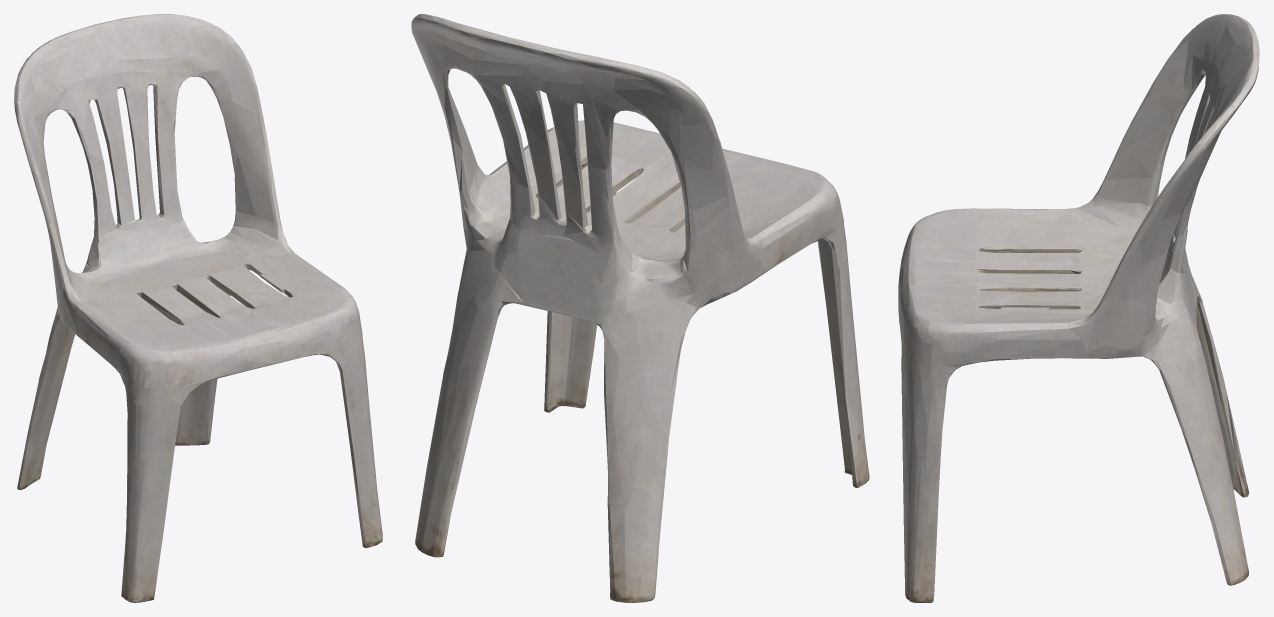
The model's file is w3pchair.glb.
3 views of the same model, side by side, from view 1: azimuth 30°, elevation 25°; view 2: azimuth 150°, elevation 25°; view 3: azimuth 270°, elevation 25° (orthographic). The views are drawn at different scales.
Visible parts, largest first — view 1: output_unwrapped; view 2: output_unwrapped; view 3: output_unwrapped.
Part boxes in pixels (x1,y1,x2,y2): output_unwrapped: (14, 14, 382, 602); output_unwrapped: (411, 14, 869, 602); output_unwrapped: (898, 14, 1259, 602).
Bounding box in the file's own units: 0.4907 × 0.8 × 0.5422.
Materials: 1 (1 with a texture image).
